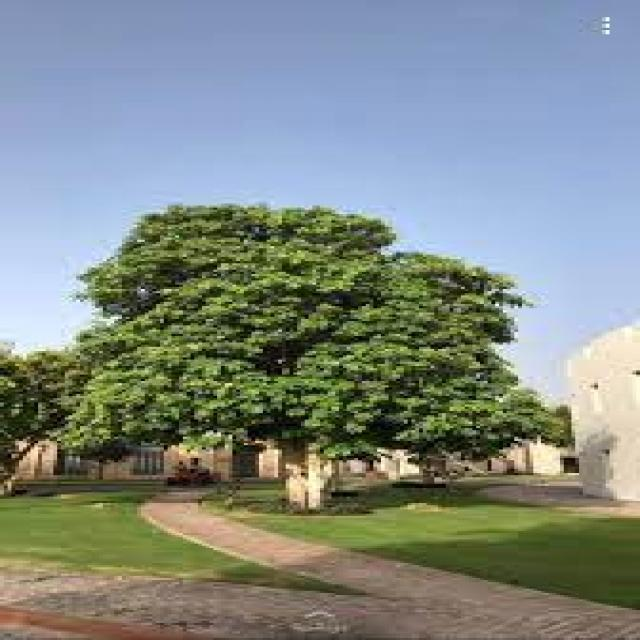tree: (57, 204, 556, 512), (366, 370, 544, 488), (3, 336, 72, 492), (68, 417, 134, 484)
